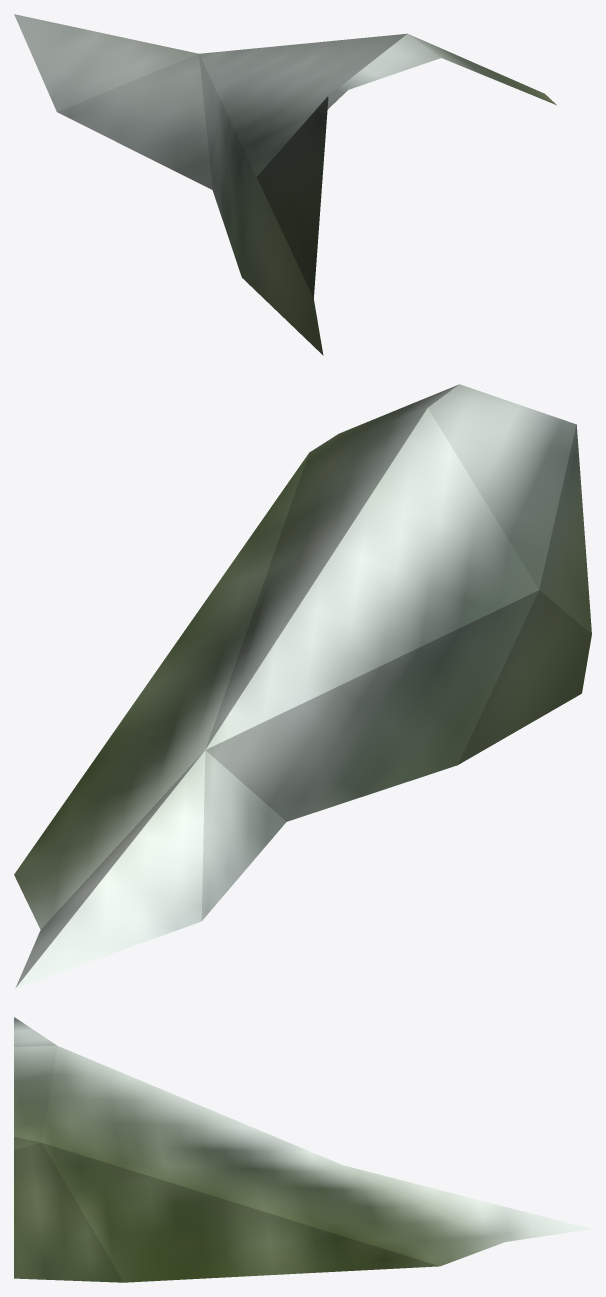
3 views of the same model, one above another, from view 1: azimuth 30°, elevation 25°; view 2: azimuth 150°, elevation 25°; view 3: azimuth 270°, elevation 25° (orthographic). The views are drawn at different scales.
Bounding box in the file's own units: 0.2186 × 0.1921 × 0.5509.
1 material, 1 textured.
